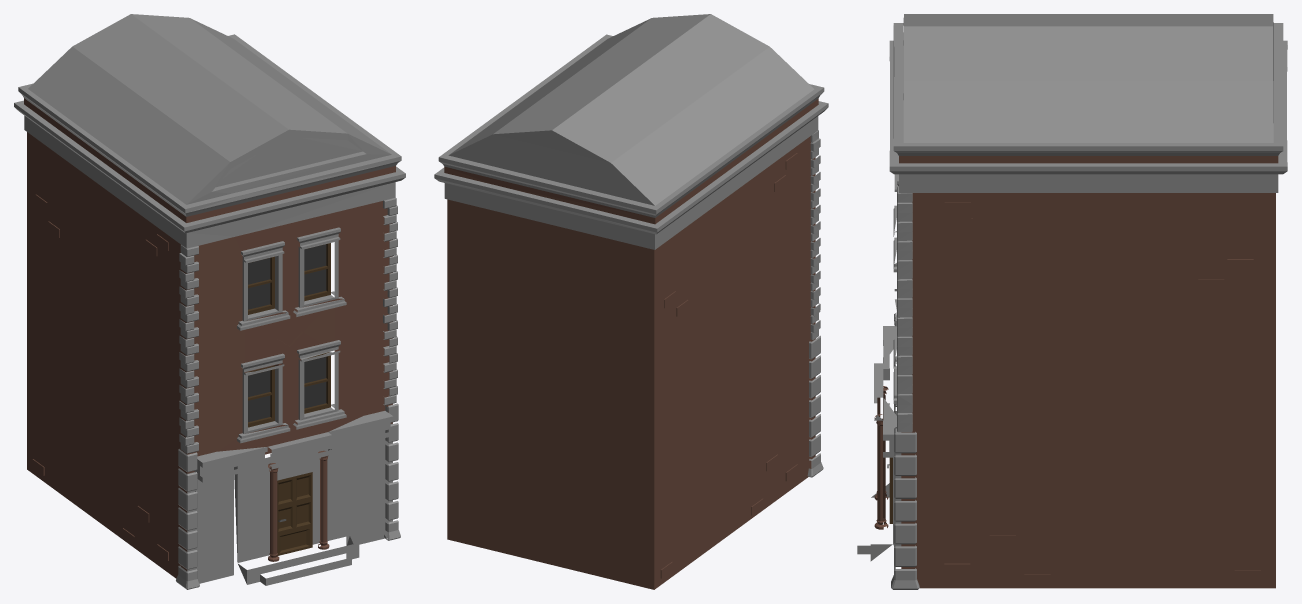
Rendered from city-brick-narrow.glb.
3 views of the same model, side by side, from view 1: azimuth 30°, elevation 25°; view 2: azimuth 150°, elevation 25°; view 3: azimuth 270°, elevation 25° (orthographic). The views are drawn at different scales.
Visible parts, largest first — view 1: Building3_Small_Cube.019; view 2: Building3_Small_Cube.019; view 3: Building3_Small_Cube.019.
Part boxes in pixels (x1,y1,x2,y2): Building3_Small_Cube.019: (14, 14, 405, 589); Building3_Small_Cube.019: (434, 14, 828, 589); Building3_Small_Cube.019: (857, 14, 1287, 589).
Size of the model in its own units: 6.71 by 12.49 by 9.67.
